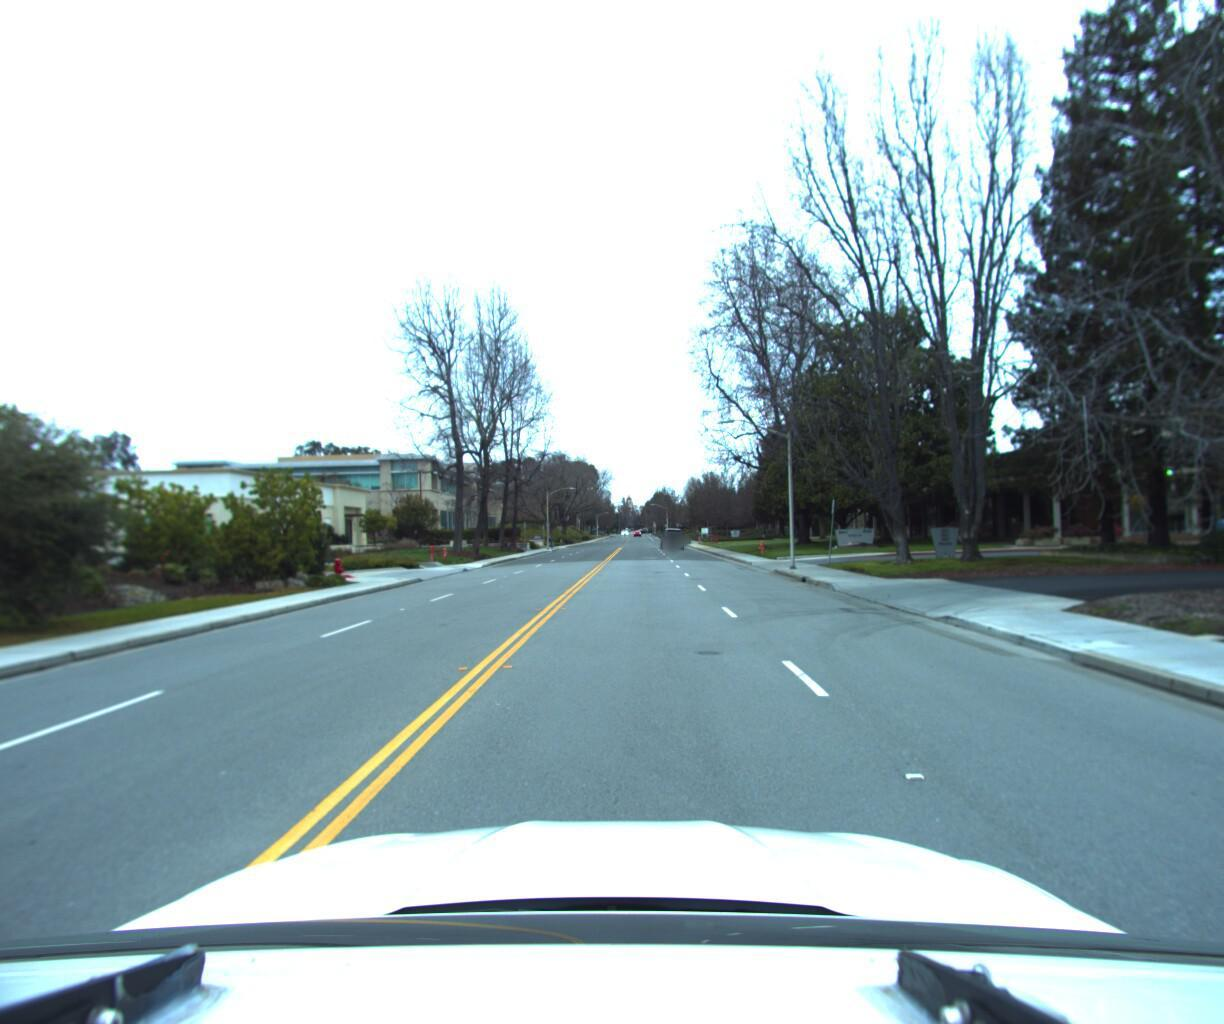car: (657, 524, 683, 547)
